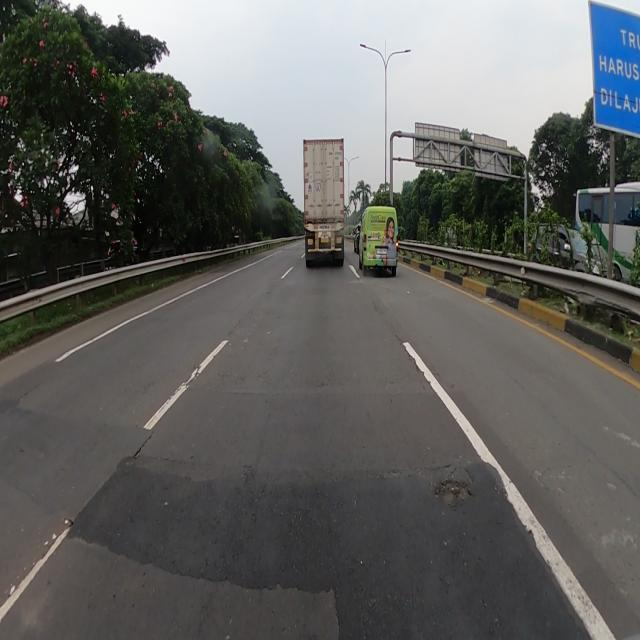Buraco: (430, 478, 476, 510)
